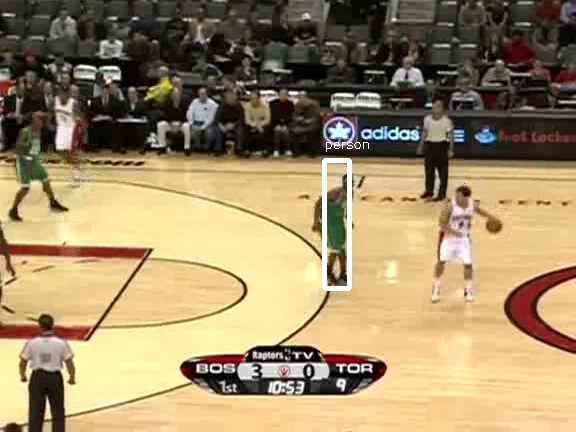person: (318, 183, 352, 264), (317, 183, 351, 264), (319, 183, 353, 264), (318, 182, 352, 263), (318, 184, 352, 265)
target_negative: (20, 63, 568, 354), (123, 97, 296, 387), (479, 17, 566, 222), (65, 253, 172, 334), (371, 224, 411, 383), (472, 390, 488, 426)
